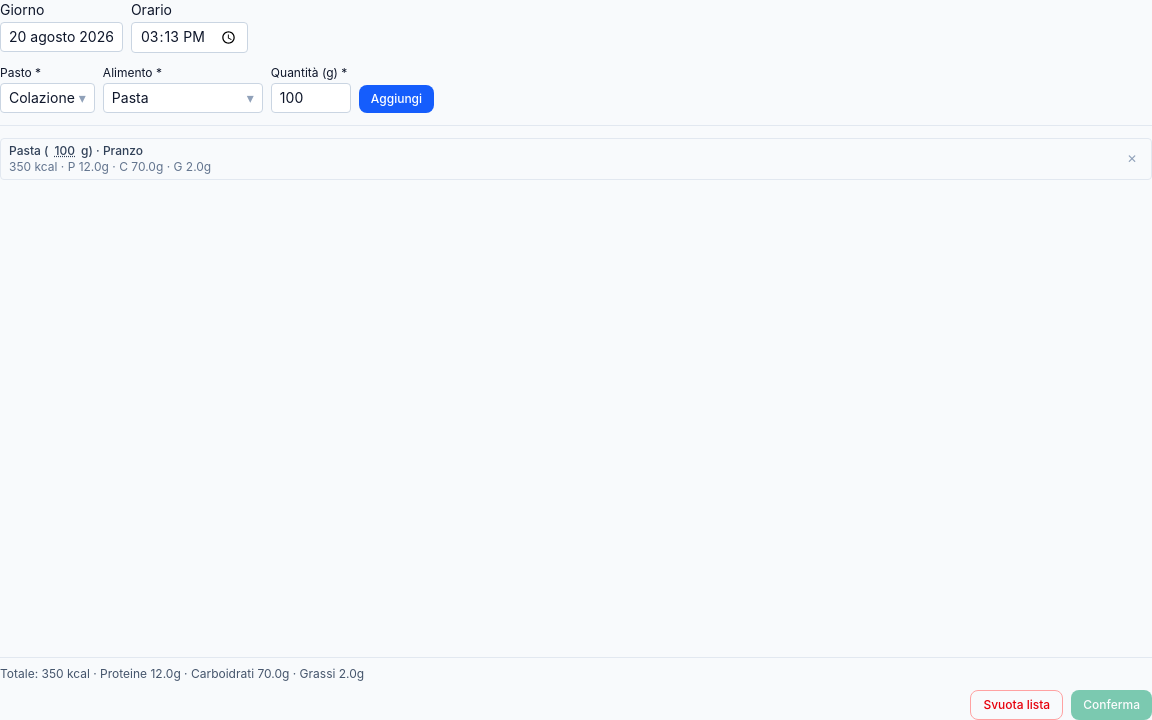
RegistraPastoPanel › RegistraPastoPanel_rimuoviVoceGiaSalvataConConferma_laSegnaComeDaEliminareERiduceLaListaVisibile
Expected: the text "Pasta" is shown, [112,88,149,108]
Click the button titled "Rimuovi" at point(1132, 159), box [1121,151,1143,167]
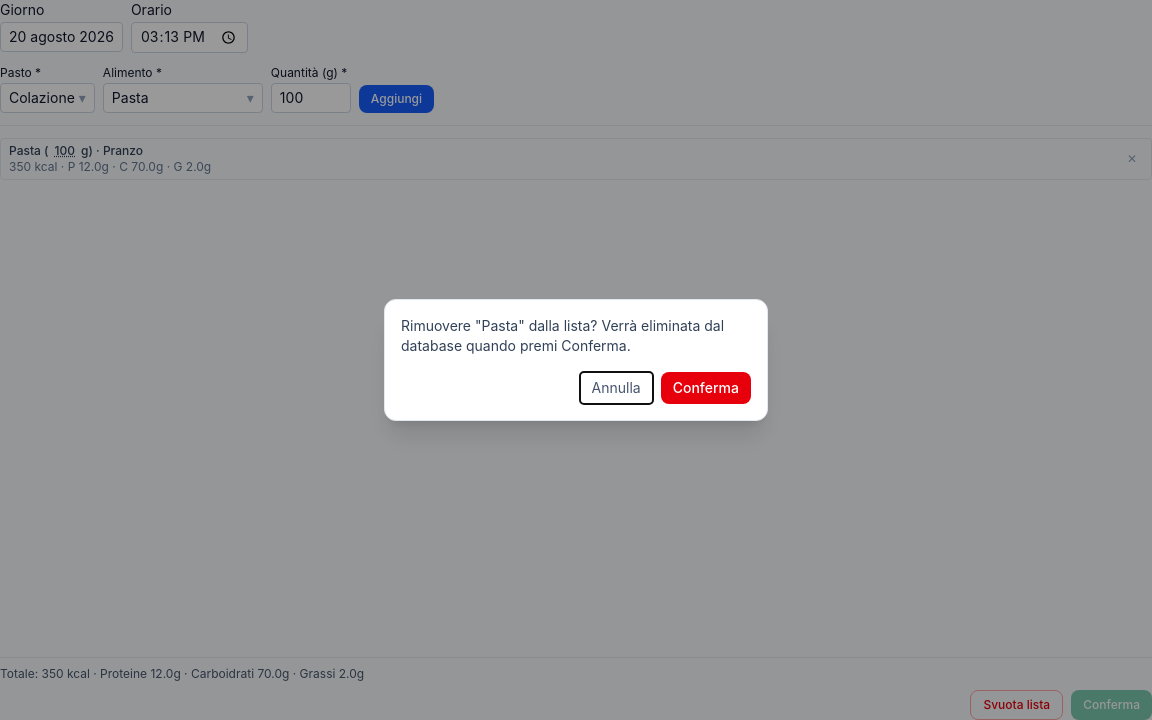
Click the button "Conferma" at point(706, 388), box [661,372,751,404]
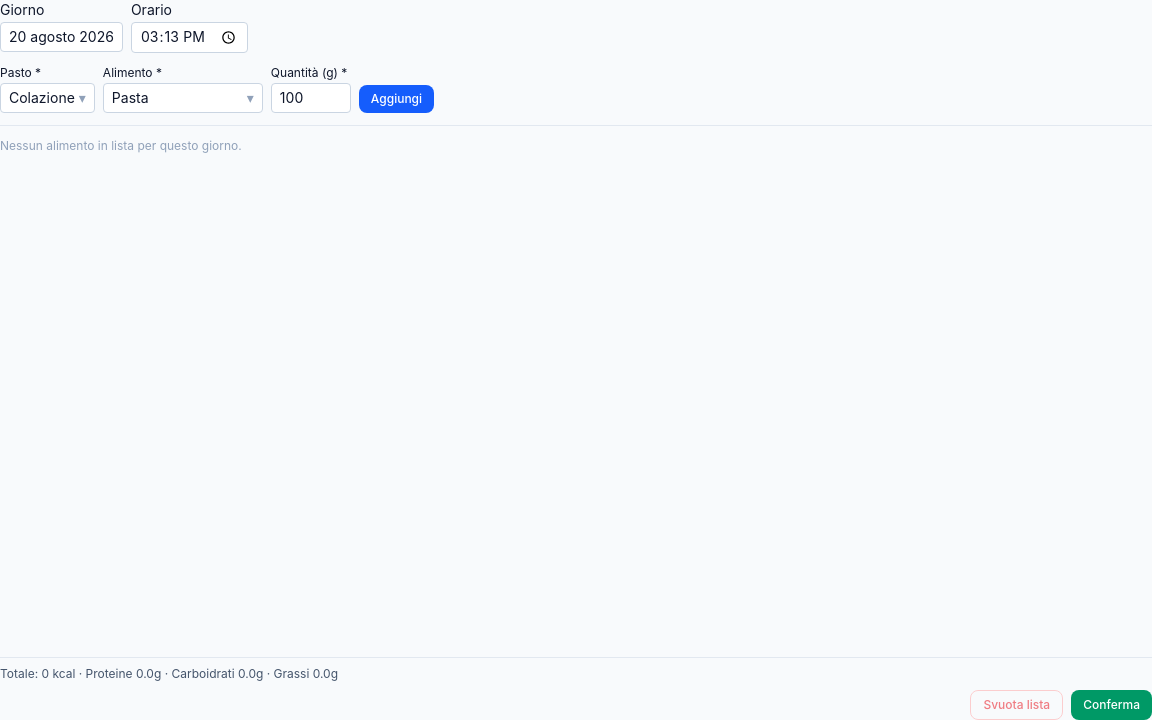
Expected: the text "Nessun alimento in lista per questo giorno." is shown, [0,138,242,153]
